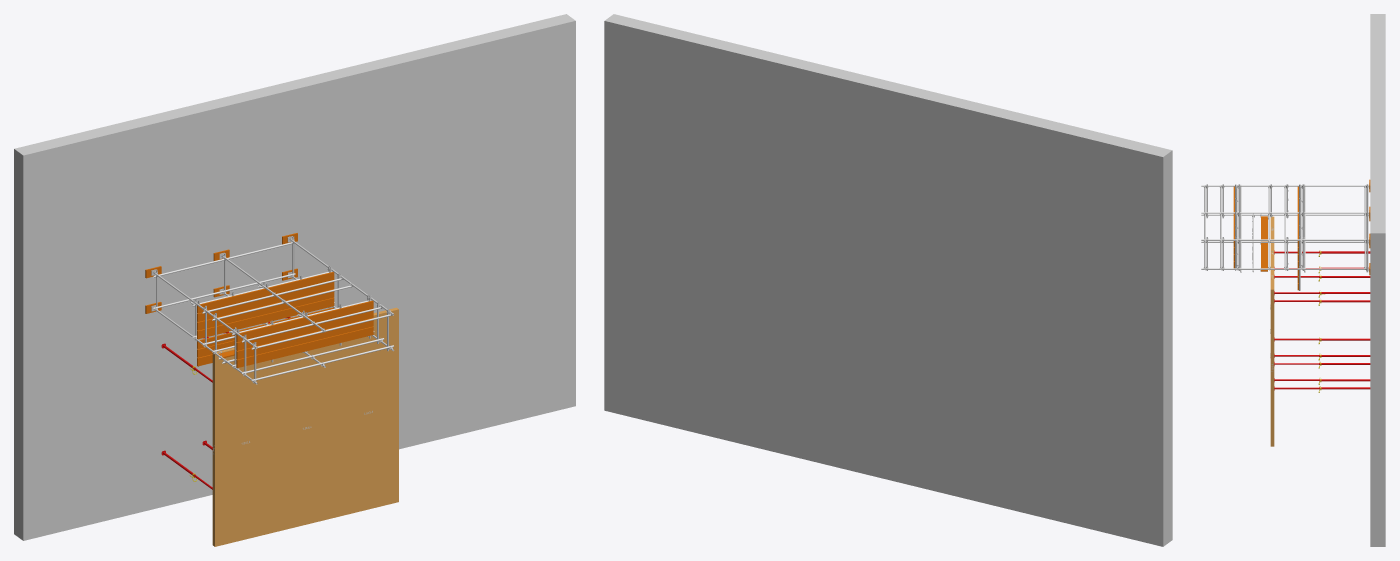
The model's file is asset.glb.
The picture shows the model from 3 angles, left to right: view 1: azimuth 30°, elevation 25°; view 2: azimuth 150°, elevation 25°; view 3: azimuth 270°, elevation 25°; orthographic projection. The views are drawn at different scales.
Visible parts, largest first — view 1: Floor Floor-Grnd-Susp_65Scr-80Ins-100Blk-75PC [349088], HDE_P_603185 HDE_P_603185 [357145]_[356960], HDE_P_603185 HDE_P_603185 [358420]_[356960], HDE_P_603185 HDE_P_603185 [358401]_[356960], Scaffold Board Scaffold Board [359468], Scaffold Board Scaffold Board [346686], Scaffold Board Scaffold Board [359403], Scaffold Board Scaffold Board [359465], Scaffold Board Scaffold Board [359467], Scaffold Board Scaffold Board [359396], Scaffold Board Scaffold Board [359466], Scaffold Board Scaffold Board [359389]; view 2: Floor Floor-Grnd-Susp_65Scr-80Ins-100Blk-75PC [349088]; view 3: Floor Floor-Grnd-Susp_65Scr-80Ins-100Blk-75PC [349088], HDE_P_603185 HDE_P_603185 [358420]_[356960], Scaffold Toe Board Scaffold Toe Board [357673], StandardSol 450x225x38mm Soleboard [343765], StandardSol 450x225x38mm Soleboard [343761], StandardSol 450x225x38mm Soleboard [343741], StandardSol 450x225x38mm Soleboard [343722], StandardSol 450x225x38mm Soleboard [343737], StandardSol 450x225x38mm Soleboard [343690].
Part boxes in pixels (x1,y1,x2,y2): Floor Floor-Grnd-Susp_65Scr-80Ins-100Blk-75PC [349088]: (14, 14, 575, 540); HDE_P_603185 HDE_P_603185 [357145]_[356960]: (212, 347, 276, 546); HDE_P_603185 HDE_P_603185 [358420]_[356960]: (337, 307, 398, 516); HDE_P_603185 HDE_P_603185 [358401]_[356960]: (276, 344, 337, 531); Scaffold Board Scaffold Board [359468]: (236, 326, 373, 368); Scaffold Board Scaffold Board [346686]: (197, 272, 334, 313); Scaffold Board Scaffold Board [359403]: (197, 297, 334, 339); Scaffold Board Scaffold Board [359465]: (236, 300, 373, 342); Scaffold Board Scaffold Board [359467]: (236, 318, 373, 359); Scaffold Board Scaffold Board [359396]: (197, 289, 334, 330); Scaffold Board Scaffold Board [359466]: (236, 310, 373, 350); Scaffold Board Scaffold Board [359389]: (197, 282, 334, 321); Floor Floor-Grnd-Susp_65Scr-80Ins-100Blk-75PC [349088]: (604, 14, 1172, 546); Floor Floor-Grnd-Susp_65Scr-80Ins-100Blk-75PC [349088]: (1370, 14, 1385, 546); HDE_P_603185 HDE_P_603185 [358420]_[356960]: (1270, 265, 1274, 446); Scaffold Toe Board Scaffold Toe Board [357673]: (1261, 216, 1267, 271); StandardSol 450x225x38mm Soleboard [343765]: (1201, 239, 1368, 240); StandardSol 450x225x38mm Soleboard [343761]: (1201, 268, 1368, 269); StandardSol 450x225x38mm Soleboard [343741]: (1201, 212, 1368, 213); StandardSol 450x225x38mm Soleboard [343722]: (1201, 185, 1368, 186); StandardSol 450x225x38mm Soleboard [343737]: (1201, 241, 1368, 242); StandardSol 450x225x38mm Soleboard [343690]: (1201, 214, 1368, 215).
Size of the model in its own units: 53.15 by 35.43 by 18.85.
